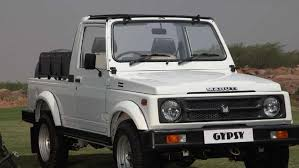Vehicle: (23, 9, 294, 166)
